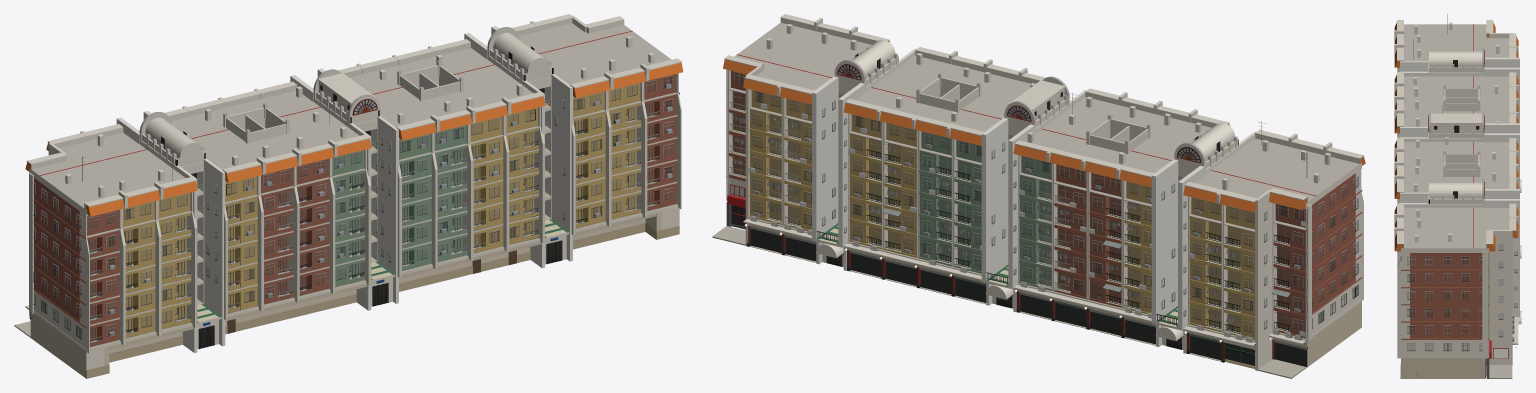
Rendered from SM_Estate_FRONT.glb.
3 views of the same model, side by side, from view 1: azimuth 30°, elevation 25°; view 2: azimuth 150°, elevation 25°; view 3: azimuth 270°, elevation 25° (orthographic). The views are drawn at different scales.
Parts seen in each view (by area): view 1: SM_Estate_FRONT_LM, SM_Estate_FRONT_VC, SM_Estate_FRONT_NB; view 2: SM_Estate_FRONT_LM, SM_Estate_FRONT_VC, SM_Estate_FRONT_NB; view 3: SM_Estate_FRONT_LM, SM_Estate_FRONT_VC, SM_Estate_FRONT_NB.
Part boxes in pixels (x1,y1,x2,y2): SM_Estate_FRONT_LM: (14,14,683,378); SM_Estate_FRONT_VC: (25,27,679,378); SM_Estate_FRONT_NB: (34,78,672,338); SM_Estate_FRONT_LM: (712,14,1365,378); SM_Estate_FRONT_VC: (726,40,1363,367); SM_Estate_FRONT_NB: (731,65,1357,365); SM_Estate_FRONT_LM: (1394,20,1521,378); SM_Estate_FRONT_VC: (1397,14,1518,378); SM_Estate_FRONT_NB: (1408,245,1516,350).
Size of the model in its own units: 81.24 by 25.7 by 19.38.
